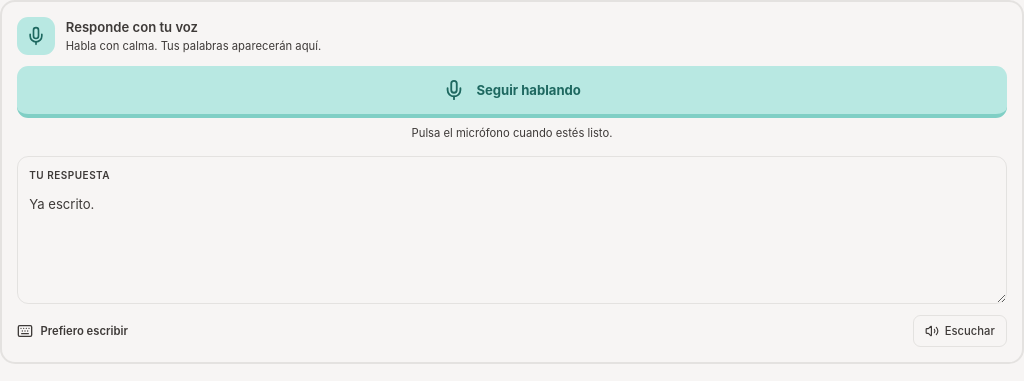
Test: si el servicio no responde pasa a texto y conserva la respuesta
This screenshot has width=1024, height=381.
Click the button with aria-label "Toca para hablar".
click(512, 92)  # box [17,66,1007,118]
Wait 20000 ms
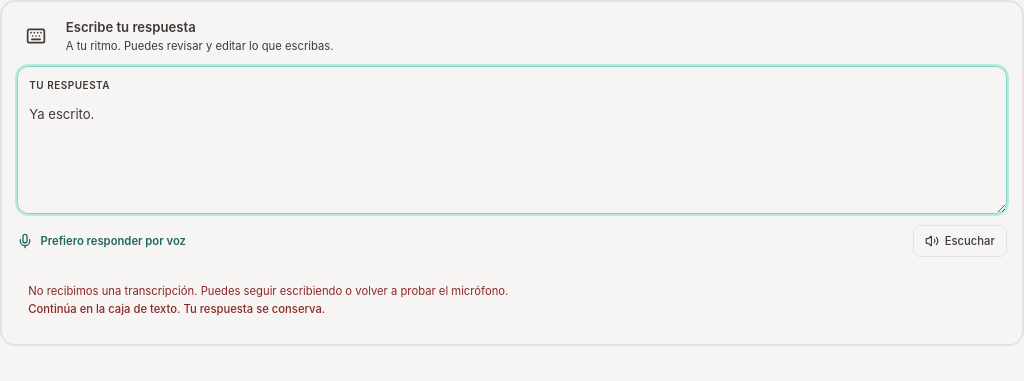
Expected: the text box holds "Ya escrito.", [18,93,1006,213]
Expected: the text "Escribe tu respuesta" is shown, [66,19,196,35]
Expected: the message shows "Tu respuesta se conserva", [28,302,325,316]
